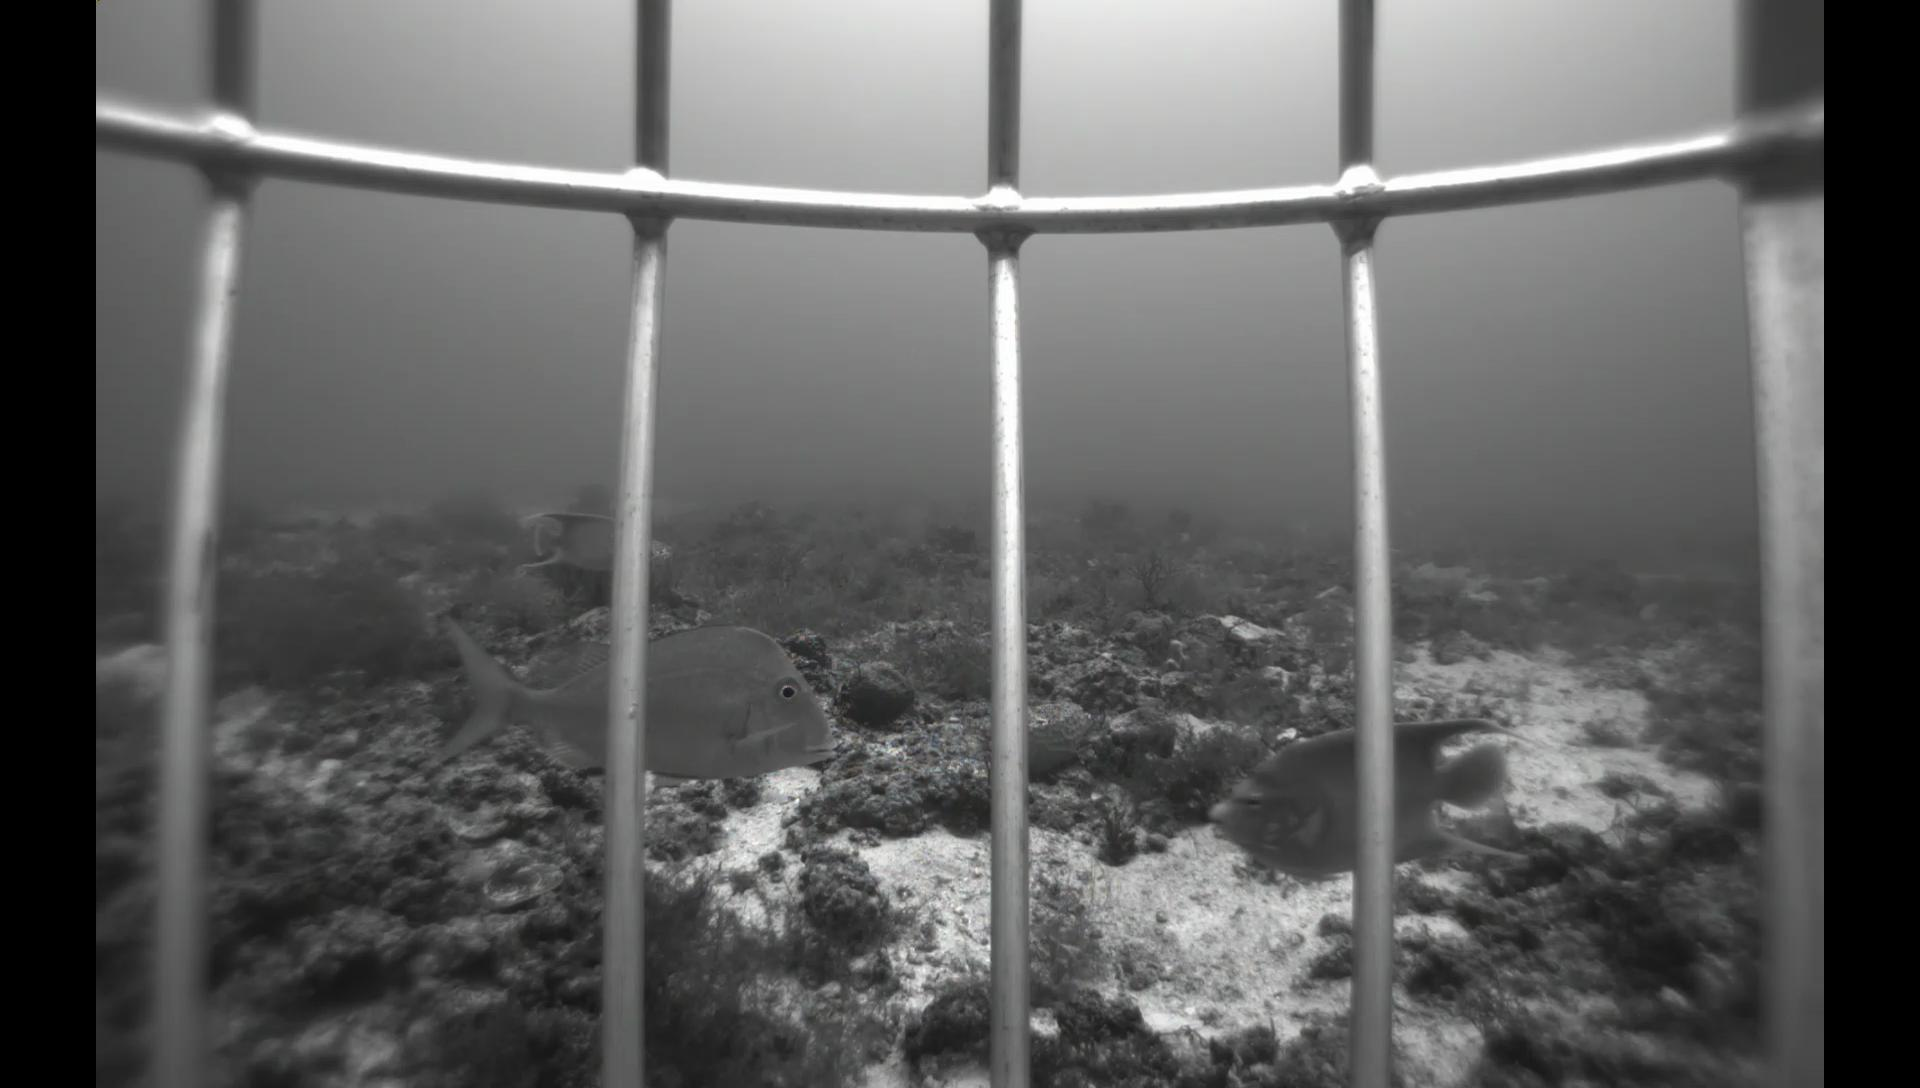CALAMUSNODOSUS-170210608: (419, 613, 843, 786)
HOLACANTHUSBERMUDENSIS-170290102: (1200, 710, 1553, 888), (512, 502, 613, 578)
MYCTEROPERCAPHENAX-170022105: (848, 513, 891, 558)
